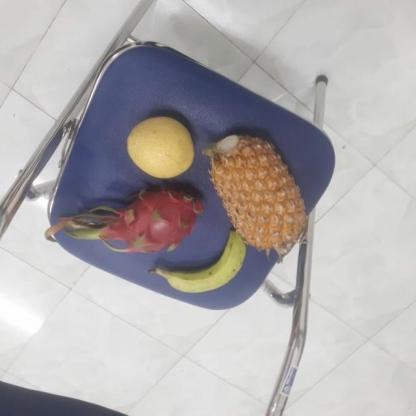banana: (158, 232, 250, 294)
pear: (124, 114, 197, 177)
pineapple: (202, 134, 310, 250)
pitaya: (96, 183, 207, 253)
